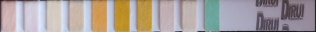color 1: (1, 1, 15, 31)
color 10: (205, 1, 218, 31)
color 2: (24, 2, 38, 31)
color 3: (45, 1, 61, 30)
color 4: (68, 2, 83, 30)
color 5: (92, 1, 107, 31)
color 6: (115, 1, 129, 32)
color 7: (137, 1, 151, 31)
color 8: (160, 1, 173, 32)
color 9: (183, 2, 196, 31)
